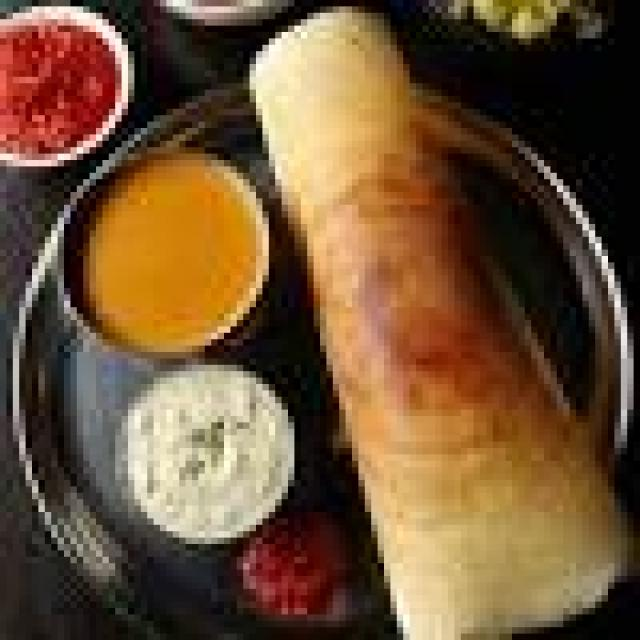Wet Waste: (230, 0, 582, 634), (109, 352, 307, 544)
